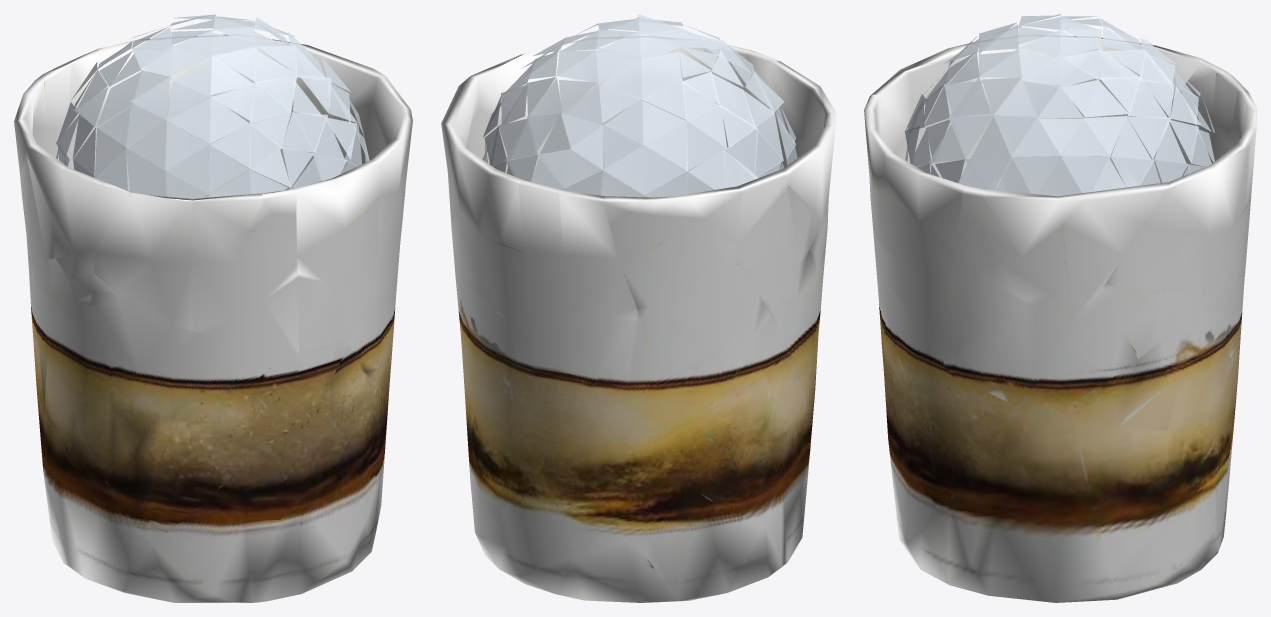
The model's file is old-fashioned.glb.
3 views of the same model, side by side, from view 1: azimuth 30°, elevation 25°; view 2: azimuth 150°, elevation 25°; view 3: azimuth 270°, elevation 25° (orthographic).
Parts seen in each view (by area): view 1: mesh_node, ice-sphere; view 2: mesh_node, ice-sphere; view 3: mesh_node, ice-sphere.
Part boxes in pixels (x1,y1,x2,y2): mesh_node: (14, 34, 412, 602); ice-sphere: (56, 14, 369, 198); mesh_node: (441, 36, 835, 602); ice-sphere: (482, 14, 797, 197); mesh_node: (864, 35, 1256, 602); ice-sphere: (904, 14, 1214, 196).
Size of the model in its own units: 0.0757 by 0.1085 by 0.0757.
Materials: 2 (1 with a texture image).
